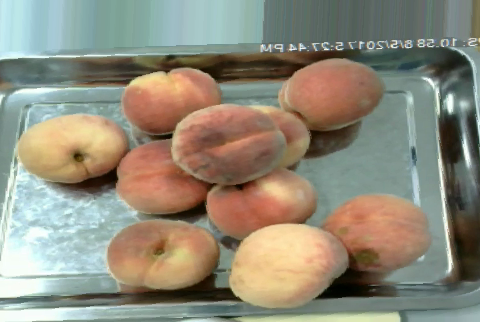Peach: (230, 223, 350, 307), (171, 103, 285, 185), (104, 218, 220, 290), (325, 193, 426, 275), (278, 58, 386, 131), (17, 112, 126, 182), (202, 169, 318, 232), (116, 137, 212, 213), (122, 66, 222, 136)
